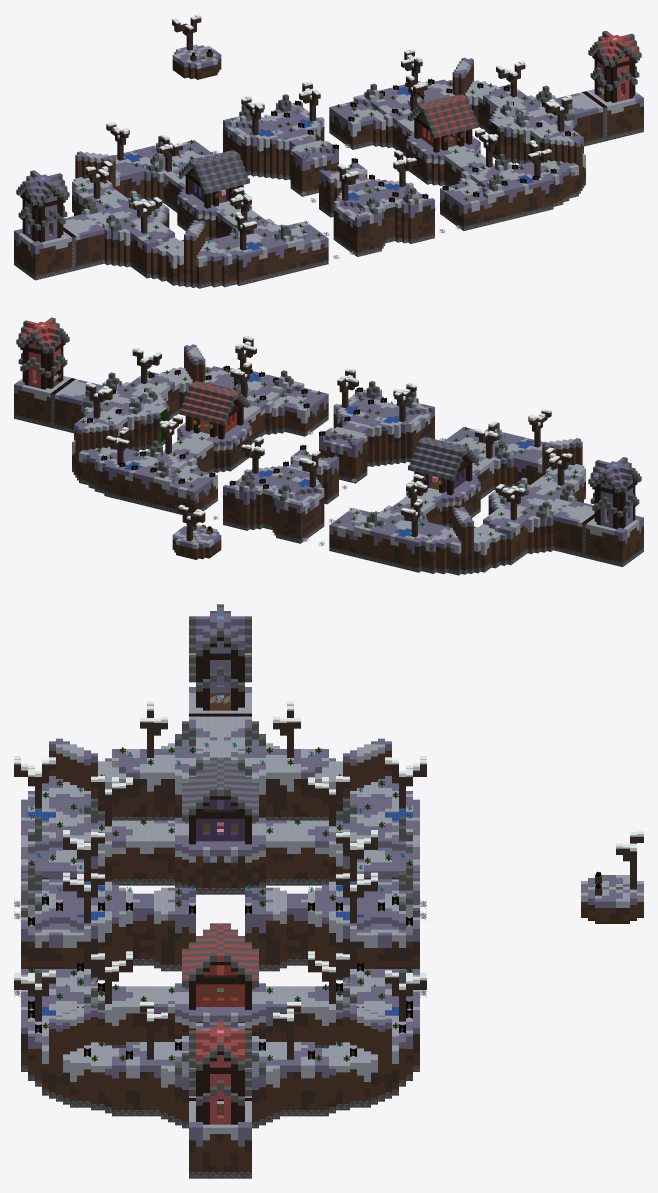
File: minecraft.obj
3 views of the same model, one above another, from view 1: azimuth 30°, elevation 25°; view 2: azimuth 150°, elevation 25°; view 3: azimuth 270°, elevation 25° (orthographic). The views are drawn at different scales.
Size of the model in its own units: 149 by 21 by 90.
